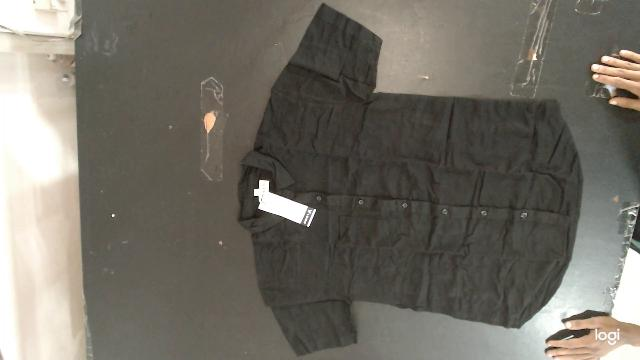new-garment: (238, 4, 583, 355)
